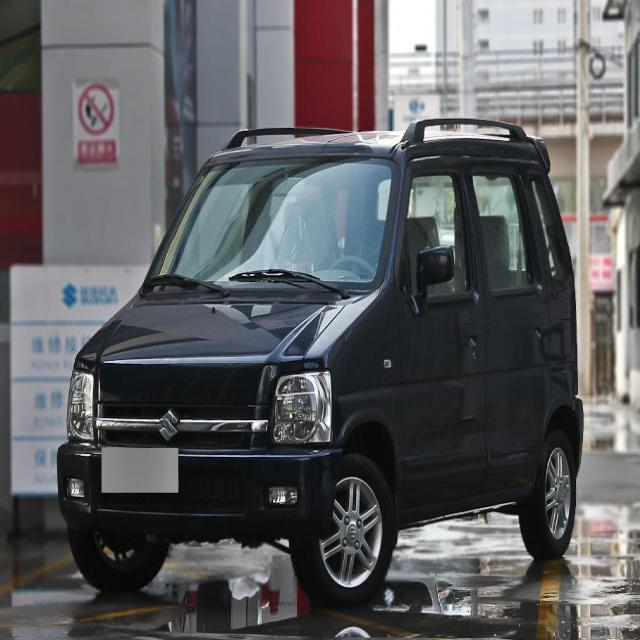door: (466, 164, 550, 480)
front_bumper: (54, 444, 338, 540)
front_glass: (143, 151, 401, 303)
front_left_side_door: (388, 150, 493, 526)
front_left_side_light: (269, 366, 334, 453)
front_left_side_mirror: (414, 241, 456, 305)
front_right_side_light: (67, 365, 98, 444)
wheel: (294, 456, 396, 603), (521, 425, 575, 553)
